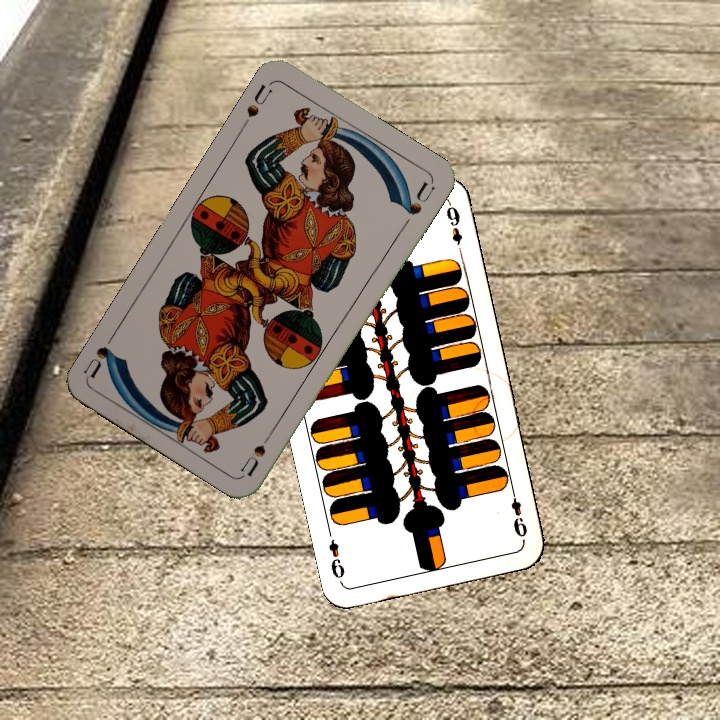E9: (506, 484, 530, 540)
SU: (237, 423, 278, 479), (242, 79, 275, 120)
